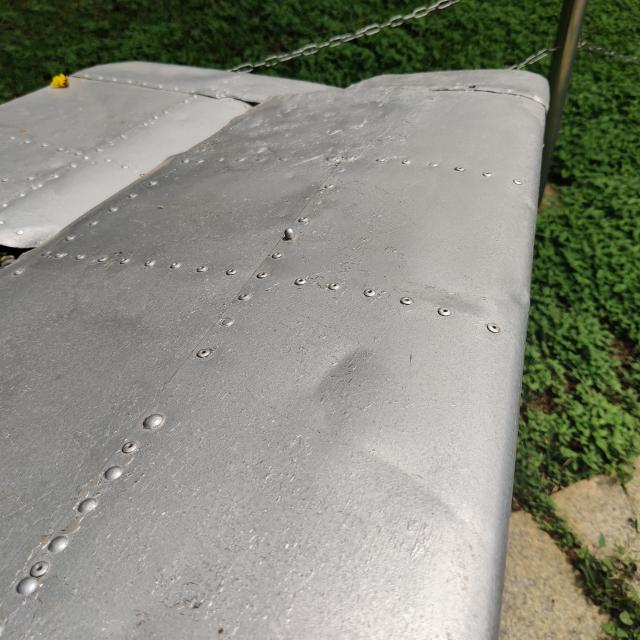dent: (342, 429, 504, 550), (288, 314, 393, 420)
